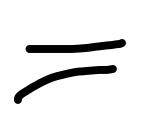eqv: (16, 39, 125, 104)
